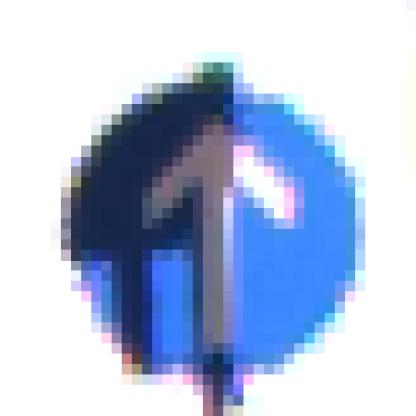AheadOnly: (52, 63, 366, 365)
